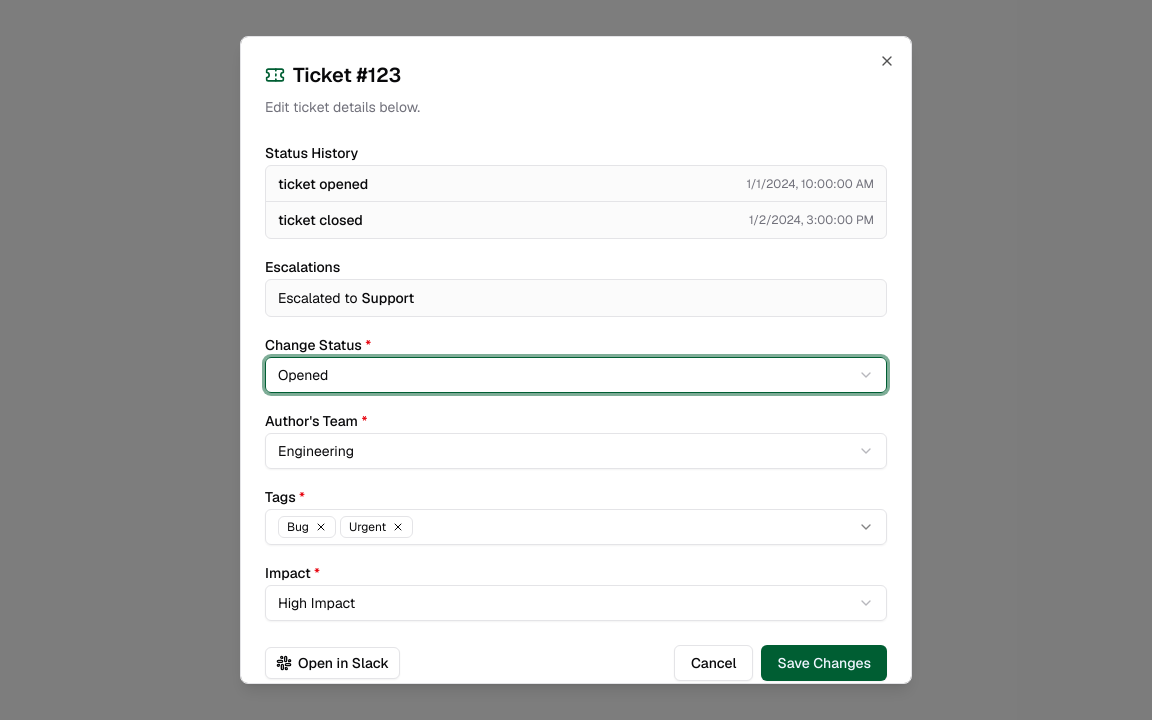
Scenario: EditTicketModal › Save Functionality › disables save button while saving
The width and height of the screenshot is (1152, 720).
Click the button "Save Changes". click: click(824, 663)
box: [761, 645, 887, 681]
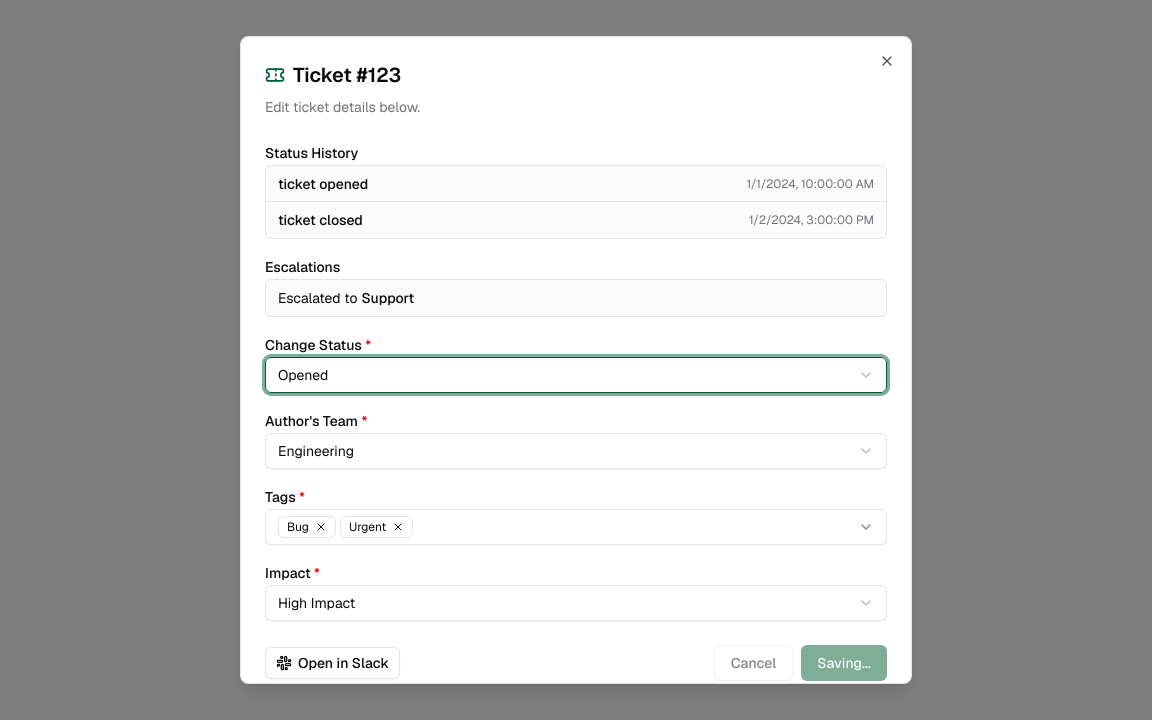
Check: the button "Saving..." is disabled, box [801, 645, 887, 681]
